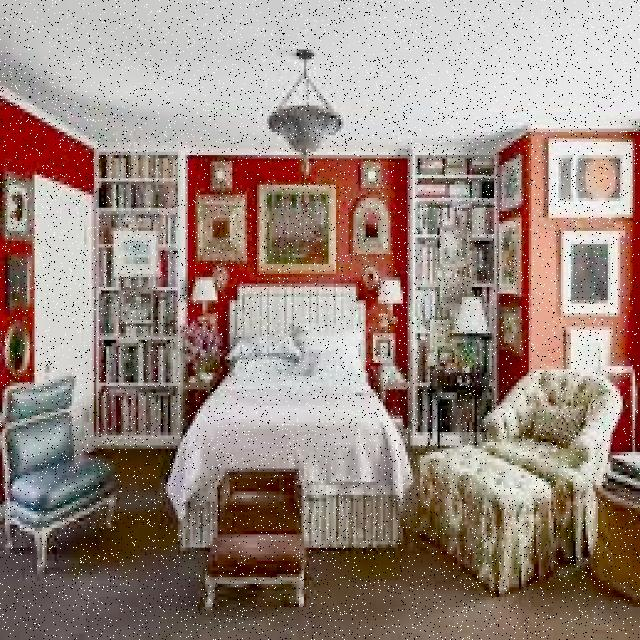bed: (165, 327, 416, 526)
